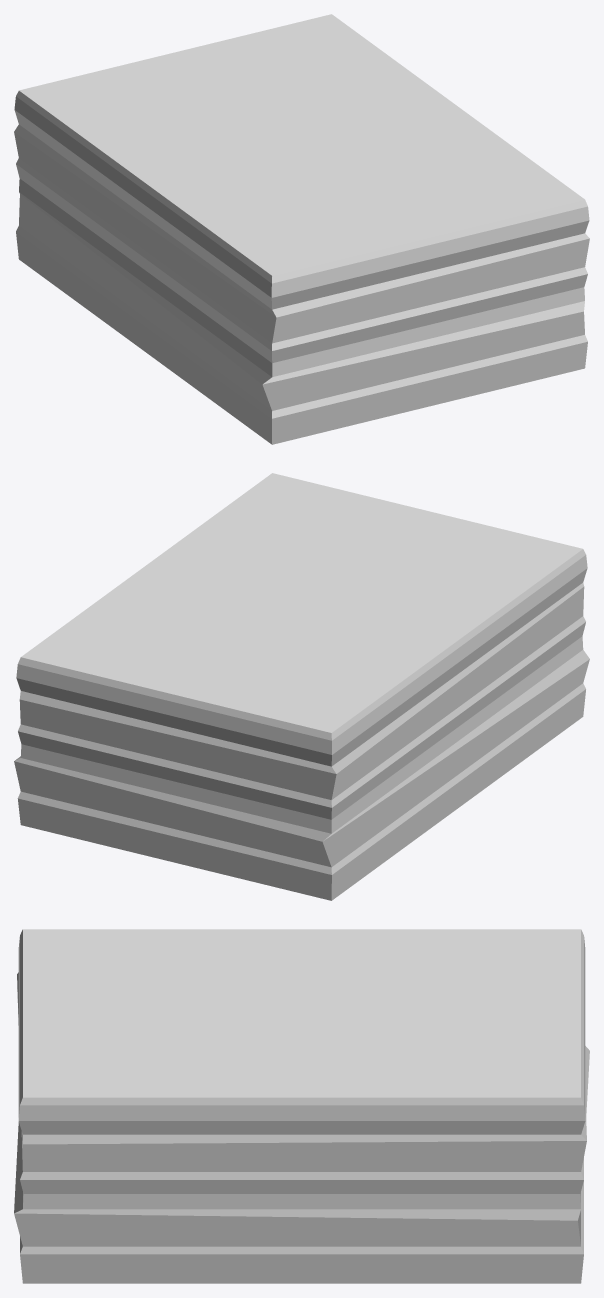
The model's file is Resmas_Hojas.fbx.
The picture shows the model from 3 angles, top to bottom: view 1: azimuth 30°, elevation 25°; view 2: azimuth 150°, elevation 25°; view 3: azimuth 270°, elevation 25°; orthographic projection. The views are drawn at different scales.
Parts seen in each view (by area): view 1: Resmas_Hojas; view 2: Resmas_Hojas; view 3: Resmas_Hojas.
Boxes of the visible parts, box(x1,y1,x2,y2) form: Resmas_Hojas: box(14, 14, 589, 444); Resmas_Hojas: box(14, 473, 589, 900); Resmas_Hojas: box(14, 929, 589, 1283).
Size of the model in its own units: 27.48 by 13.47 by 37.76.
